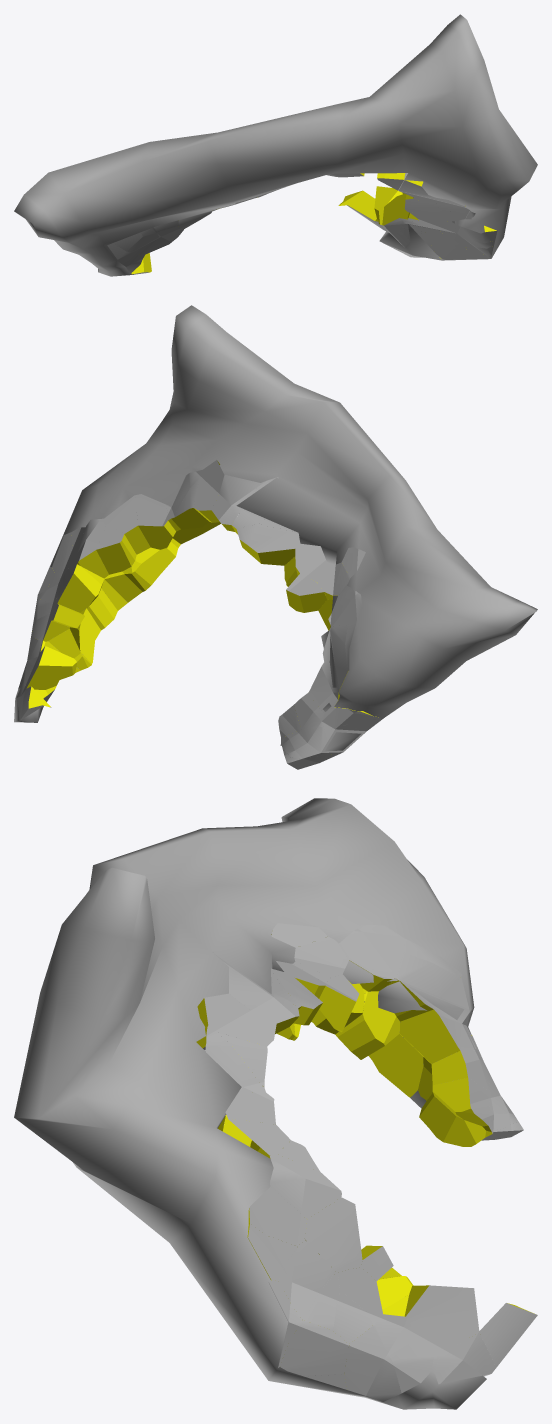
The model's file is wallBarrier2_borderRedux.fbx.
3 views of the same model, one above another, from view 1: azimuth 30°, elevation 25°; view 2: azimuth 150°, elevation 25°; view 3: azimuth 270°, elevation 25° (orthographic). The views are drawn at different scales.
Parts seen in each view (by area): view 1: nurbsToPoly3, polySurface595; view 2: nurbsToPoly3, polySurface595; view 3: nurbsToPoly3, polySurface595.
Part boxes in pixels (left/top/right/bottom): nurbsToPoly3: left=14, top=14, right=537, bottom=276; polySurface595: left=98, top=173, right=497, bottom=274; nurbsToPoly3: left=14, top=305, right=537, bottom=751; polySurface595: left=16, top=460, right=381, bottom=769; nurbsToPoly3: left=14, top=798, right=486, bottom=1409; polySurface595: left=196, top=916, right=537, bottom=1401.
Size of the model in its own units: 291 by 189 by 178.
